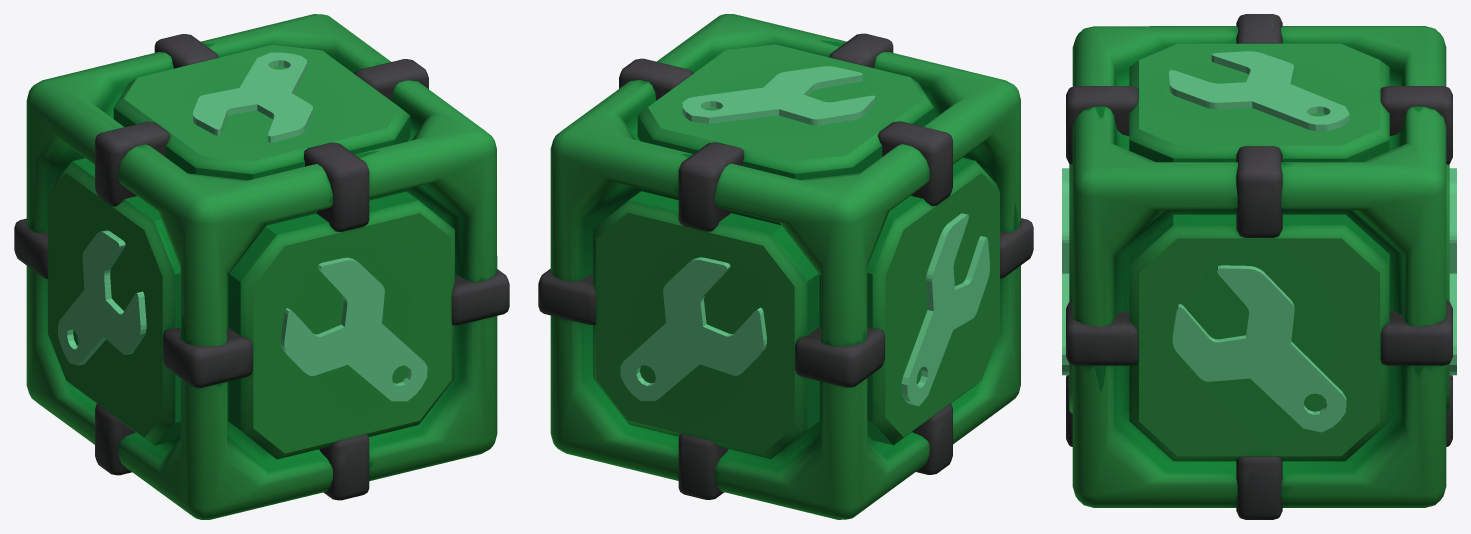
Rendered from Recovery_Powerup.fbx.
3 views of the same model, side by side, from view 1: azimuth 30°, elevation 25°; view 2: azimuth 150°, elevation 25°; view 3: azimuth 270°, elevation 25° (orthographic). The views are drawn at different scales.
Visible parts, largest first — view 1: Recovery_Powerup; view 2: Recovery_Powerup; view 3: Recovery_Powerup.
Part boxes in pixels (x1,y1,x2,y2): Recovery_Powerup: [14, 14, 509, 519]; Recovery_Powerup: [538, 14, 1033, 519]; Recovery_Powerup: [1062, 14, 1456, 519].
Size of the model in its own units: 0.123 by 0.123 by 0.123.
